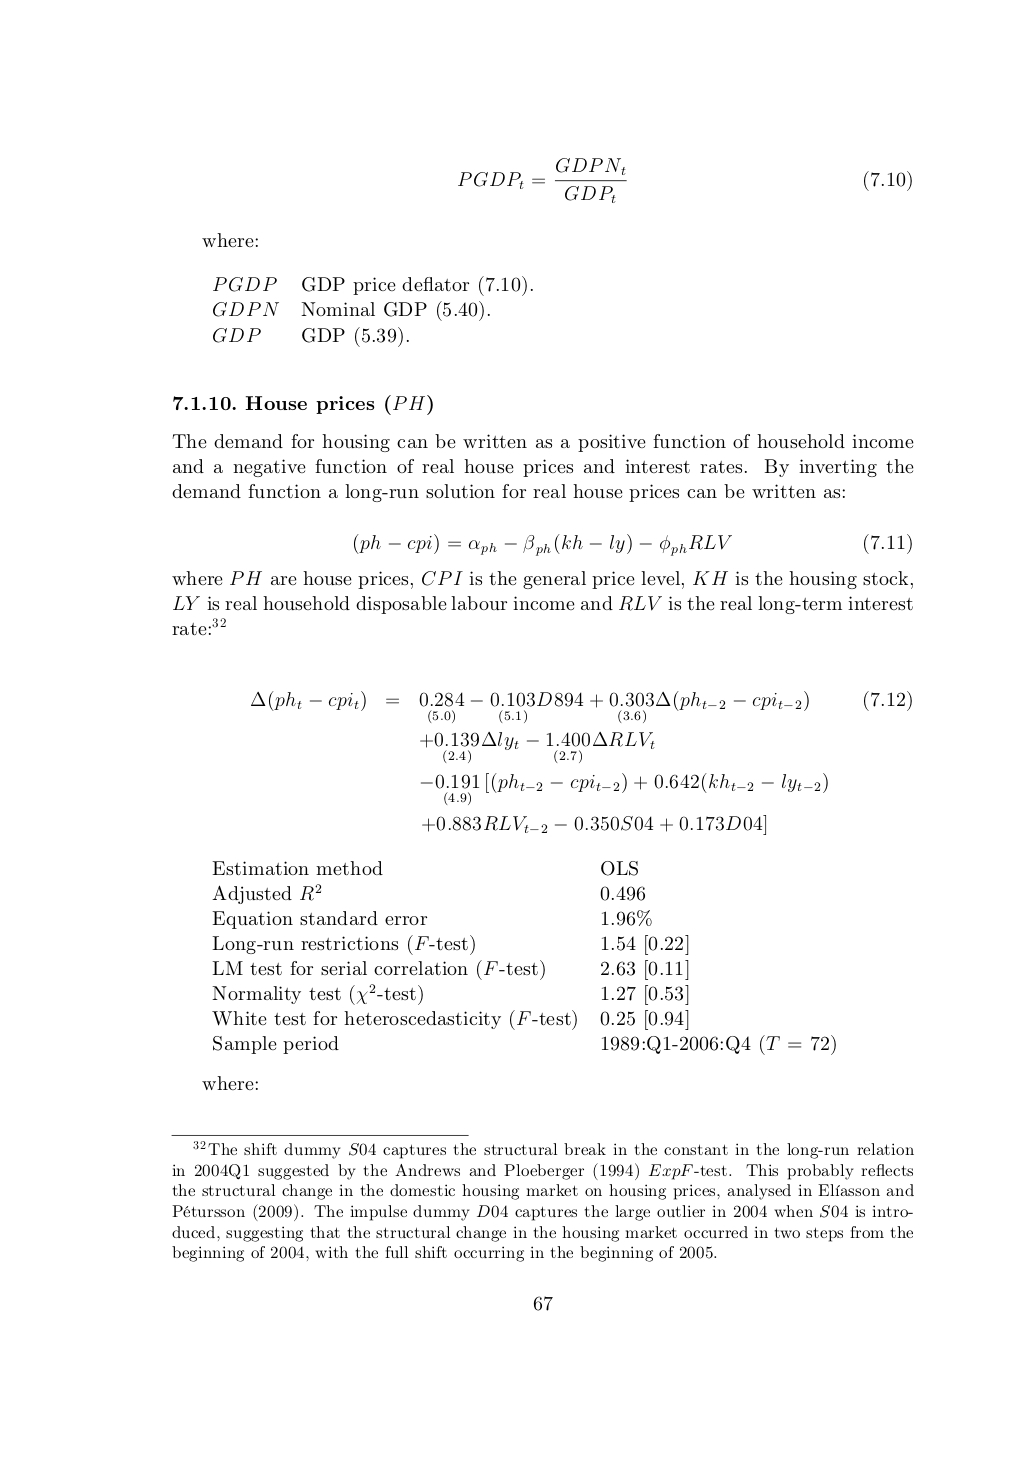Table: (212, 861, 835, 1054)
formula: (251, 690, 911, 724), (458, 159, 911, 202), (420, 772, 826, 806), (354, 532, 911, 556), (420, 730, 654, 764), (422, 814, 766, 835)
